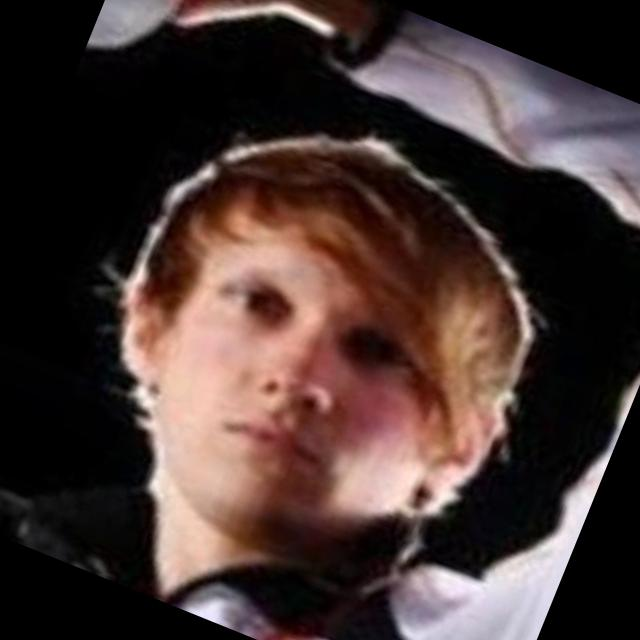bareface: (49, 58, 541, 601)
